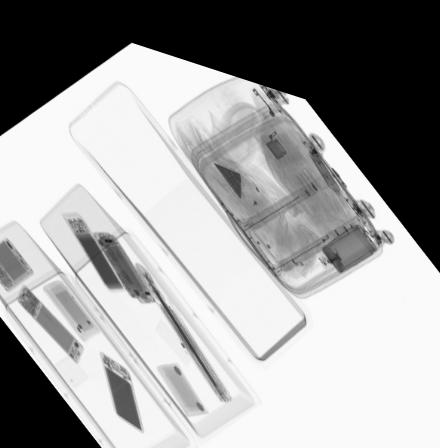Powerbank: (59, 208, 125, 283), (98, 344, 143, 425)
